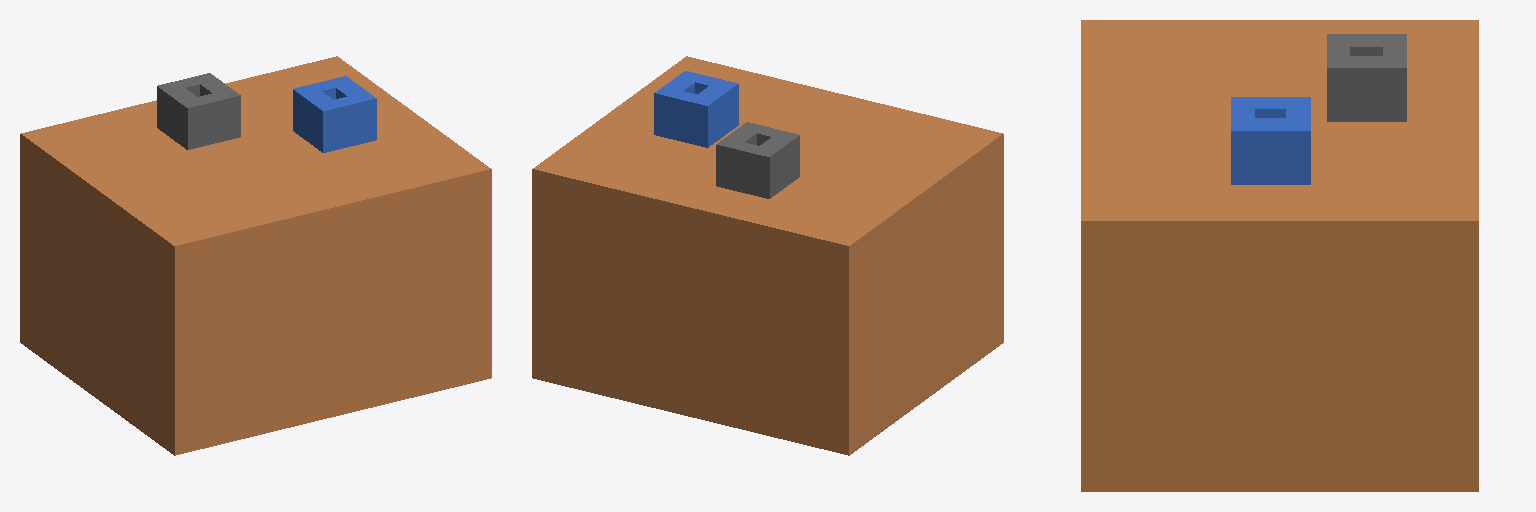
URDF robot description (peg_in_hole_fixtured_scene_0030_peg0007_tol02):
<?xml version="1.0"?>
<robot name="peg_in_hole_fixtured_scene_0030_peg0007_tol02">
  <material name="wood"><color rgba="0.82 0.56 0.35 1.0"/></material>
  <material name="start_fix"><color rgba="0.30 0.50 0.85 1.0"/></material>
  <material name="goal_fix"><color rgba="0.4706 0.4706 0.4706 1.0"/></material>
  <link name="box">
    <visual>
      <origin xyz="0.000000 0.000000 0.000000" rpy="0 0 0"/>
      <geometry><box size="0.475000 0.400000 0.300000"/></geometry>
      <material name="wood"/>
    </visual>
    <collision>
      <origin xyz="0.000000 0.000000 0.000000" rpy="0 0 0"/>
      <geometry><box size="0.475000 0.400000 0.300000"/></geometry>
    </collision>
    <visual>
      <origin xyz="0.112493 -0.009304 0.155000" rpy="0 0 0"/>
      <geometry><box size="0.080000 0.080000 0.010000"/></geometry>
      <material name="start_fix"/>
    </visual>
    <collision>
      <origin xyz="0.112493 -0.009304 0.155000" rpy="0 0 0"/>
      <geometry><box size="0.080000 0.080000 0.010000"/></geometry>
    </collision>
    <visual>
      <origin xyz="0.137743 -0.009304 0.185000" rpy="0 0 0"/>
      <geometry><box size="0.029500 0.080000 0.050000"/></geometry>
      <material name="start_fix"/>
    </visual>
    <collision>
      <origin xyz="0.137743 -0.009304 0.185000" rpy="0 0 0"/>
      <geometry><box size="0.029500 0.080000 0.050000"/></geometry>
    </collision>
    <visual>
      <origin xyz="0.087243 -0.009304 0.185000" rpy="0 0 0"/>
      <geometry><box size="0.029500 0.080000 0.050000"/></geometry>
      <material name="start_fix"/>
    </visual>
    <collision>
      <origin xyz="0.087243 -0.009304 0.185000" rpy="0 0 0"/>
      <geometry><box size="0.029500 0.080000 0.050000"/></geometry>
    </collision>
    <visual>
      <origin xyz="0.112493 0.018446 0.185000" rpy="0 0 0"/>
      <geometry><box size="0.021000 0.024500 0.050000"/></geometry>
      <material name="start_fix"/>
    </visual>
    <collision>
      <origin xyz="0.112493 0.018446 0.185000" rpy="0 0 0"/>
      <geometry><box size="0.021000 0.024500 0.050000"/></geometry>
    </collision>
    <visual>
      <origin xyz="0.112493 -0.037054 0.185000" rpy="0 0 0"/>
      <geometry><box size="0.021000 0.024500 0.050000"/></geometry>
      <material name="start_fix"/>
    </visual>
    <collision>
      <origin xyz="0.112493 -0.037054 0.185000" rpy="0 0 0"/>
      <geometry><box size="0.021000 0.024500 0.050000"/></geometry>
    </collision>
    <visual>
      <origin xyz="-0.035547 0.086954 0.155000" rpy="0 0 0"/>
      <geometry><box size="0.080000 0.080000 0.010000"/></geometry>
      <material name="goal_fix"/>
    </visual>
    <collision>
      <origin xyz="-0.035547 0.086954 0.155000" rpy="0 0 0"/>
      <geometry><box size="0.080000 0.080000 0.010000"/></geometry>
    </collision>
    <visual>
      <origin xyz="-0.009852 0.086954 0.185000" rpy="0 0 0"/>
      <geometry><box size="0.028610 0.080000 0.050000"/></geometry>
      <material name="goal_fix"/>
    </visual>
    <collision>
      <origin xyz="-0.009852 0.086954 0.185000" rpy="0 0 0"/>
      <geometry><box size="0.028610 0.080000 0.050000"/></geometry>
    </collision>
    <visual>
      <origin xyz="-0.061242 0.086954 0.185000" rpy="0 0 0"/>
      <geometry><box size="0.028610 0.080000 0.050000"/></geometry>
      <material name="goal_fix"/>
    </visual>
    <collision>
      <origin xyz="-0.061242 0.086954 0.185000" rpy="0 0 0"/>
      <geometry><box size="0.028610 0.080000 0.050000"/></geometry>
    </collision>
    <visual>
      <origin xyz="-0.035547 0.115150 0.185000" rpy="0 0 0"/>
      <geometry><box size="0.022780 0.023610 0.050000"/></geometry>
      <material name="goal_fix"/>
    </visual>
    <collision>
      <origin xyz="-0.035547 0.115150 0.185000" rpy="0 0 0"/>
      <geometry><box size="0.022780 0.023610 0.050000"/></geometry>
    </collision>
    <visual>
      <origin xyz="-0.035547 0.058759 0.185000" rpy="0 0 0"/>
      <geometry><box size="0.022780 0.023610 0.050000"/></geometry>
      <material name="goal_fix"/>
    </visual>
    <collision>
      <origin xyz="-0.035547 0.058759 0.185000" rpy="0 0 0"/>
      <geometry><box size="0.022780 0.023610 0.050000"/></geometry>
    </collision>
    <inertial>
      <mass value="500"/>
      <friction value="1.0"/>
      <inertia ixx="1000.0" ixy="0.0" ixz="0.0" iyy="1000.0" iyz="0.0" izz="1000.0"/>
    </inertial>
  </link>
</robot>

--- Facts derived from the render (not from the file) ---
The picture shows the robot from 3 angles, left to right: view 1: azimuth 30°, elevation 25°; view 2: azimuth 150°, elevation 25°; view 3: azimuth 270°, elevation 25°; orthographic projection.
Model peg_in_hole_fixtured_scene_0030_peg0007_tol02 with 1 links and 0 joints (none), rooted at box, posed all joints at 0.
Links seen in each view (by area): view 1: box; view 2: box; view 3: box.
Link boxes in pixels (<box>): box: <box>20,56,491,455</box>; box: <box>532,56,1003,455</box>; box: <box>1081,20,1478,491</box>.
Bounding box of the posed robot: 0.475 × 0.4 × 0.36 m (x, y, z).
Geometry: primitives only (box / cylinder / sphere), no mesh files.
